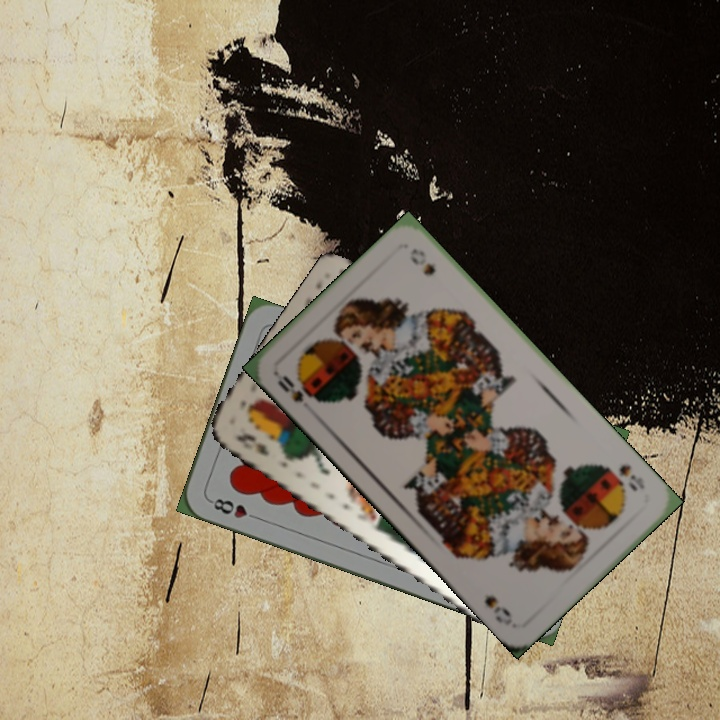EK: (232, 429, 272, 459)
H8: (205, 494, 263, 523)
SO: (272, 369, 322, 407), (602, 460, 647, 494)
